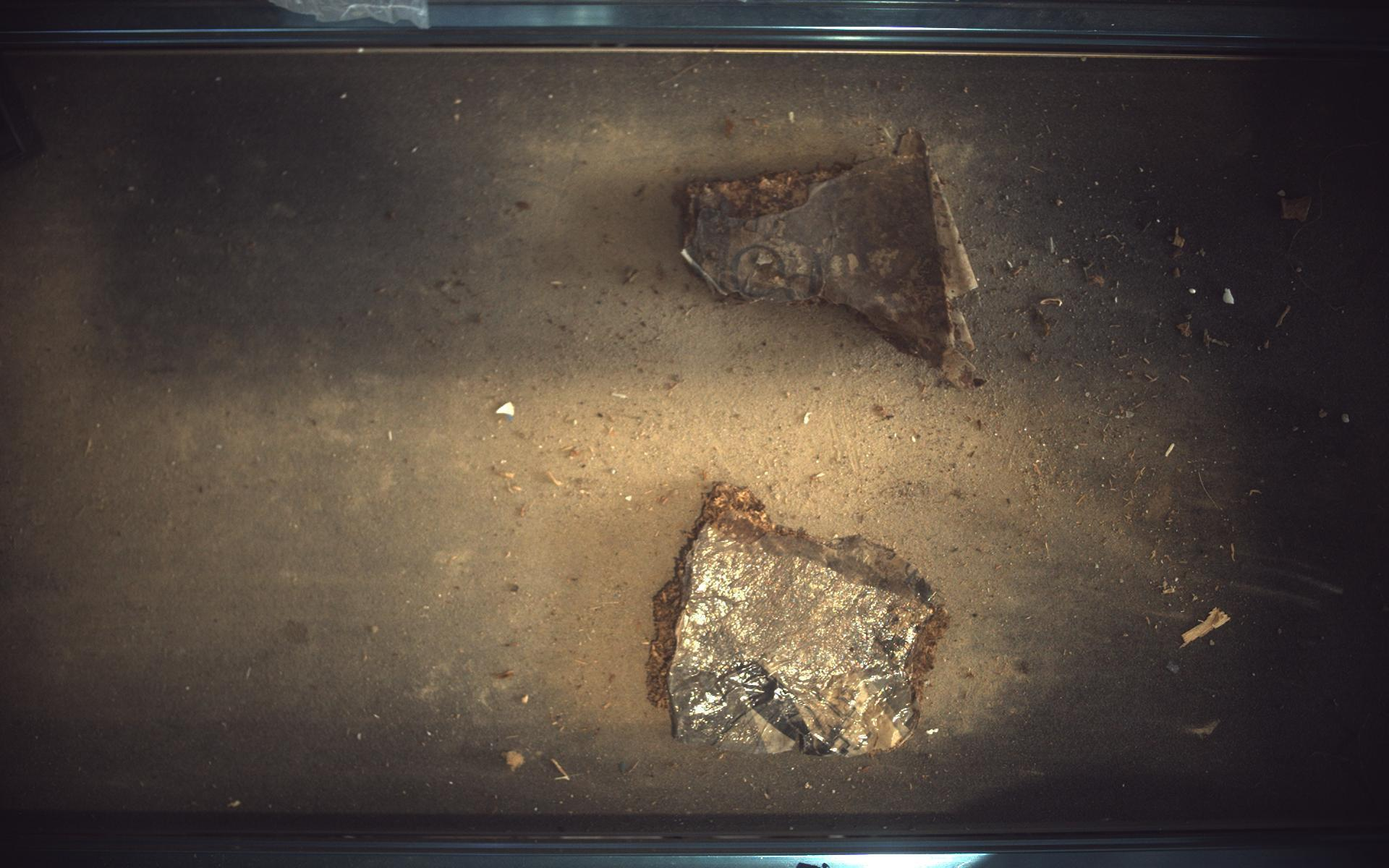wood: (647, 484, 950, 757), (684, 127, 985, 388)
